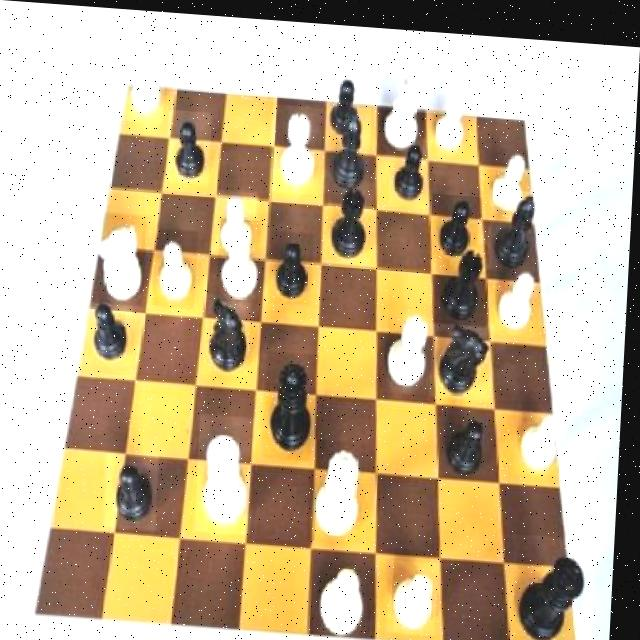bishop: (489, 181, 545, 265), (324, 99, 374, 191)
black-bishop: (514, 527, 602, 640)
black-king: (433, 312, 499, 393), (205, 291, 255, 374)
black-knight: (110, 449, 165, 528), (168, 107, 214, 182), (271, 227, 317, 302), (431, 186, 481, 254), (89, 294, 136, 366), (448, 406, 495, 476), (390, 131, 432, 202), (324, 64, 367, 132)
black-pawn: (267, 347, 324, 457)
black-queen: (436, 234, 492, 319), (326, 175, 376, 260)
black-rook: (315, 544, 379, 640), (219, 215, 263, 301)
white-bishop: (199, 411, 260, 532)
white-king: (95, 211, 150, 305), (380, 65, 428, 150)
white-knight: (494, 256, 548, 331), (519, 394, 573, 467), (394, 554, 445, 630), (154, 227, 200, 307), (485, 139, 537, 206), (123, 44, 166, 122), (215, 187, 260, 254), (432, 84, 475, 149)
white-pawn: (313, 433, 371, 541)
white-queen: (270, 101, 325, 191), (386, 303, 436, 387)
